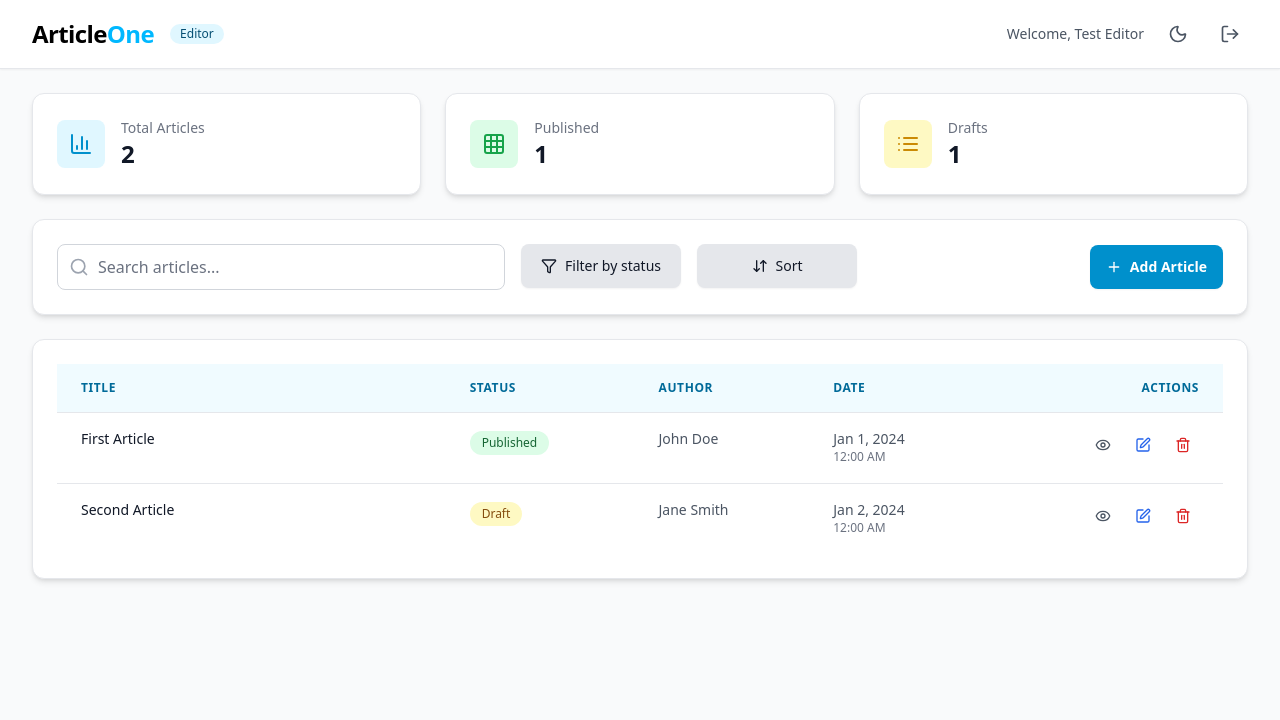
Dashboard (Integration) › opens and displays article view modal
Expected: the text "First Article" is shown, [81, 429, 155, 448]
Click the button named "view article" in the row of "First Article": (1103, 445) [1087, 429, 1119, 461]
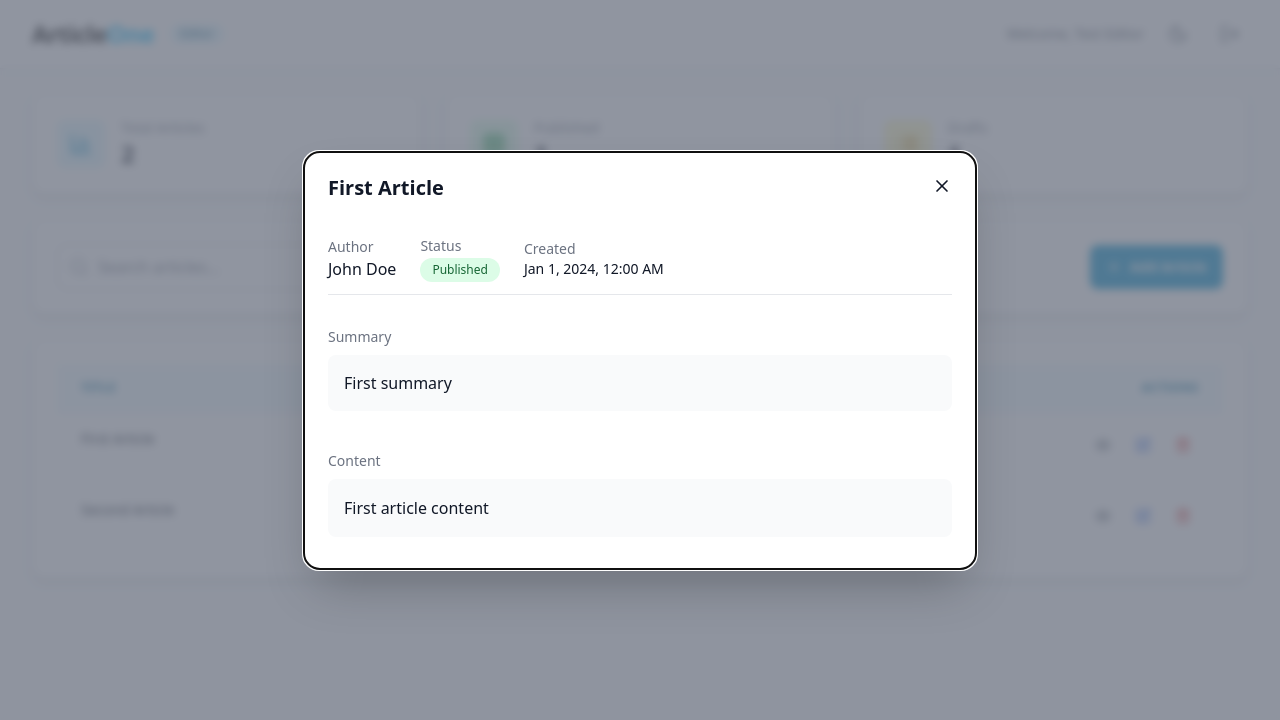
Expected: the heading "First Article" is shown, [328, 174, 444, 200]
Expected: the text "First summary" is shown, [328, 354, 952, 410]
